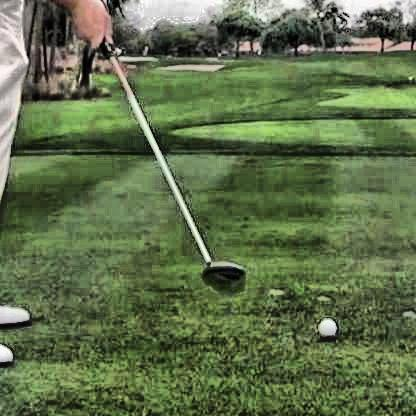golfball: (314, 314, 335, 335)
